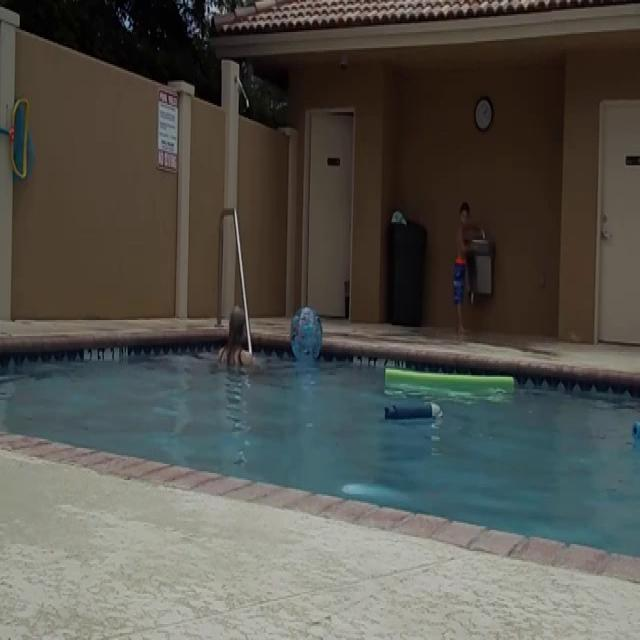child: (218, 302, 263, 382), (454, 199, 478, 340)
